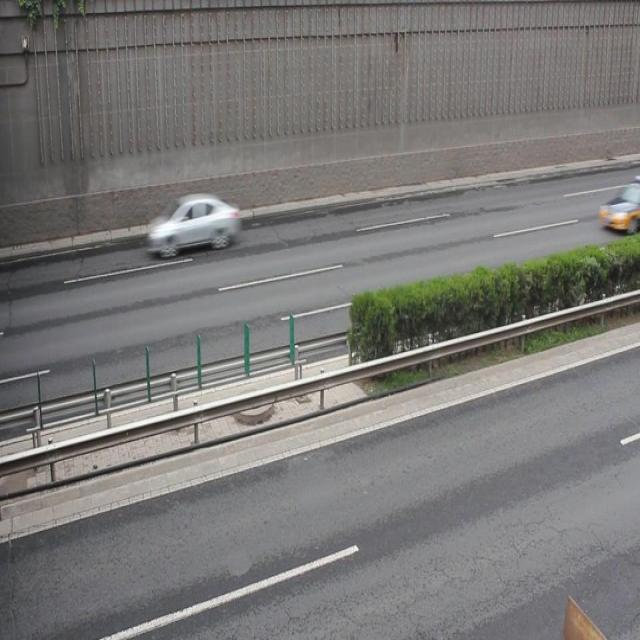car: (146, 192, 240, 255), (598, 185, 640, 232)
